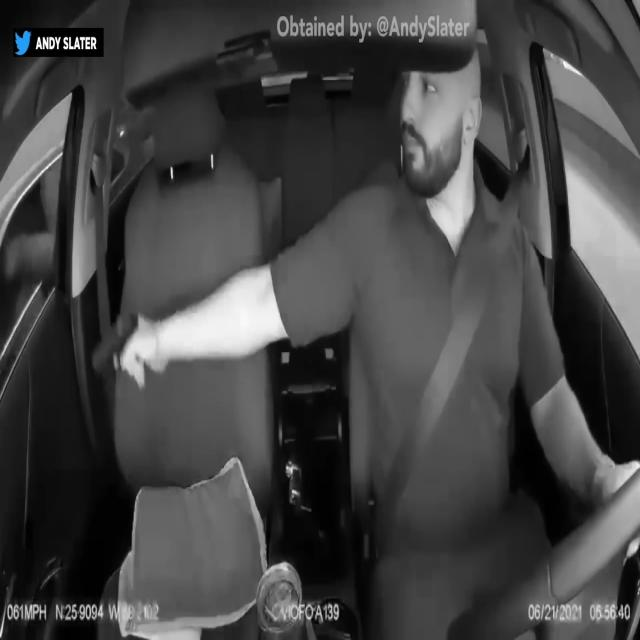senjata_api: (90, 309, 138, 376)
